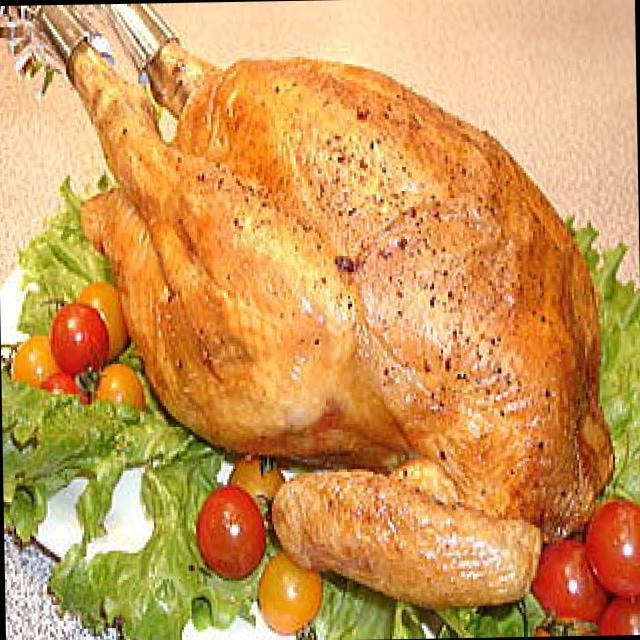Chicken: (110, 7, 634, 500)
